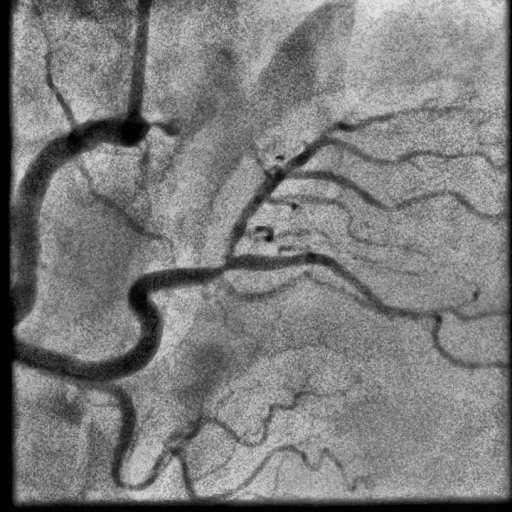pborca: (226, 136, 492, 259)
pda: (237, 252, 505, 369)
rca: (0, 118, 235, 382)
